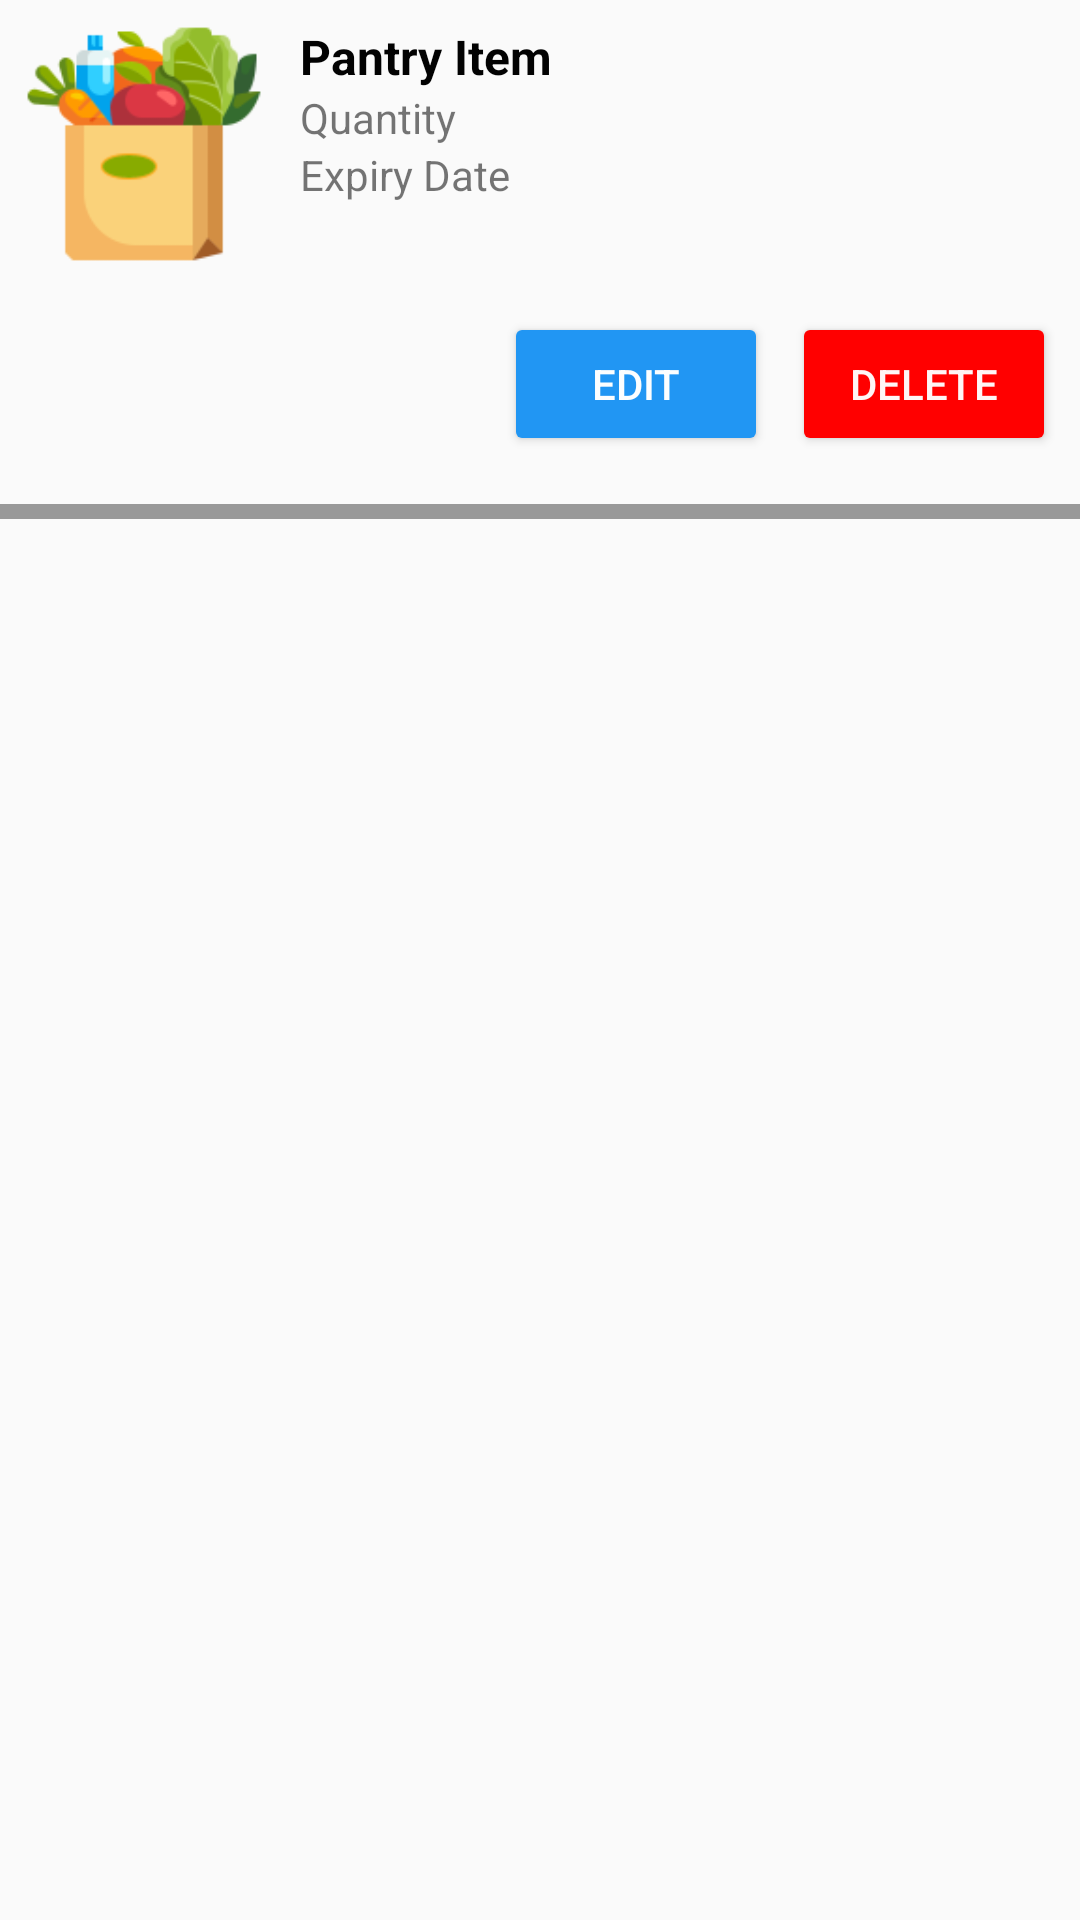

Icons on this 1080w x 1920h Android screen, each with the point to tap as [x,y]:
shopping bag: [144,144]
